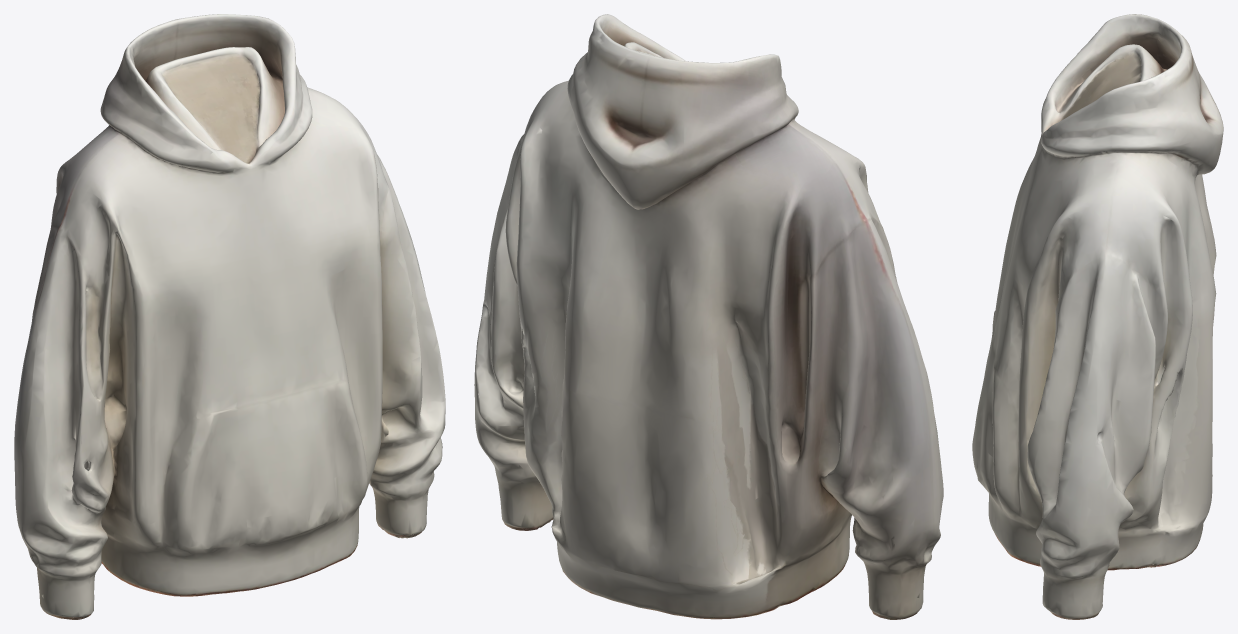
The model's file is hoodie.glb.
3 renders of one model, left to right at view 1: azimuth 30°, elevation 25°; view 2: azimuth 150°, elevation 25°; view 3: azimuth 270°, elevation 25°, orthographic. The views are drawn at different scales.
Parts seen in each view (by area): view 1: geometry_0; view 2: geometry_0; view 3: geometry_0.
Part boxes in pixels (x1,y1,x2,y2): geometry_0: [14, 14, 445, 619]; geometry_0: [474, 14, 943, 619]; geometry_0: [972, 14, 1223, 619].
Bounding box in the file's own units: 0.8574 × 0.9921 × 0.4646.
Materials: 1 (1 with a texture image).
